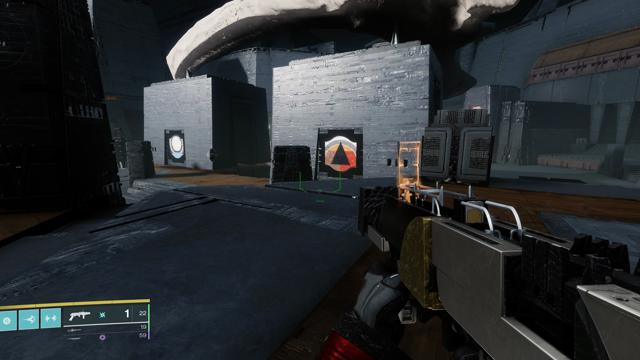pyramid: (325, 136, 357, 171)
traveler: (169, 135, 184, 159)
